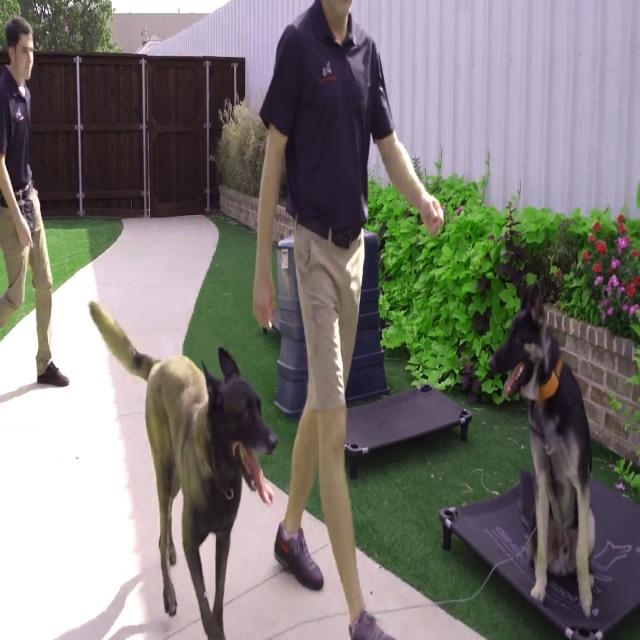Dog: (489, 280, 596, 616)
Unleashed_Dog: (88, 302, 345, 640)
